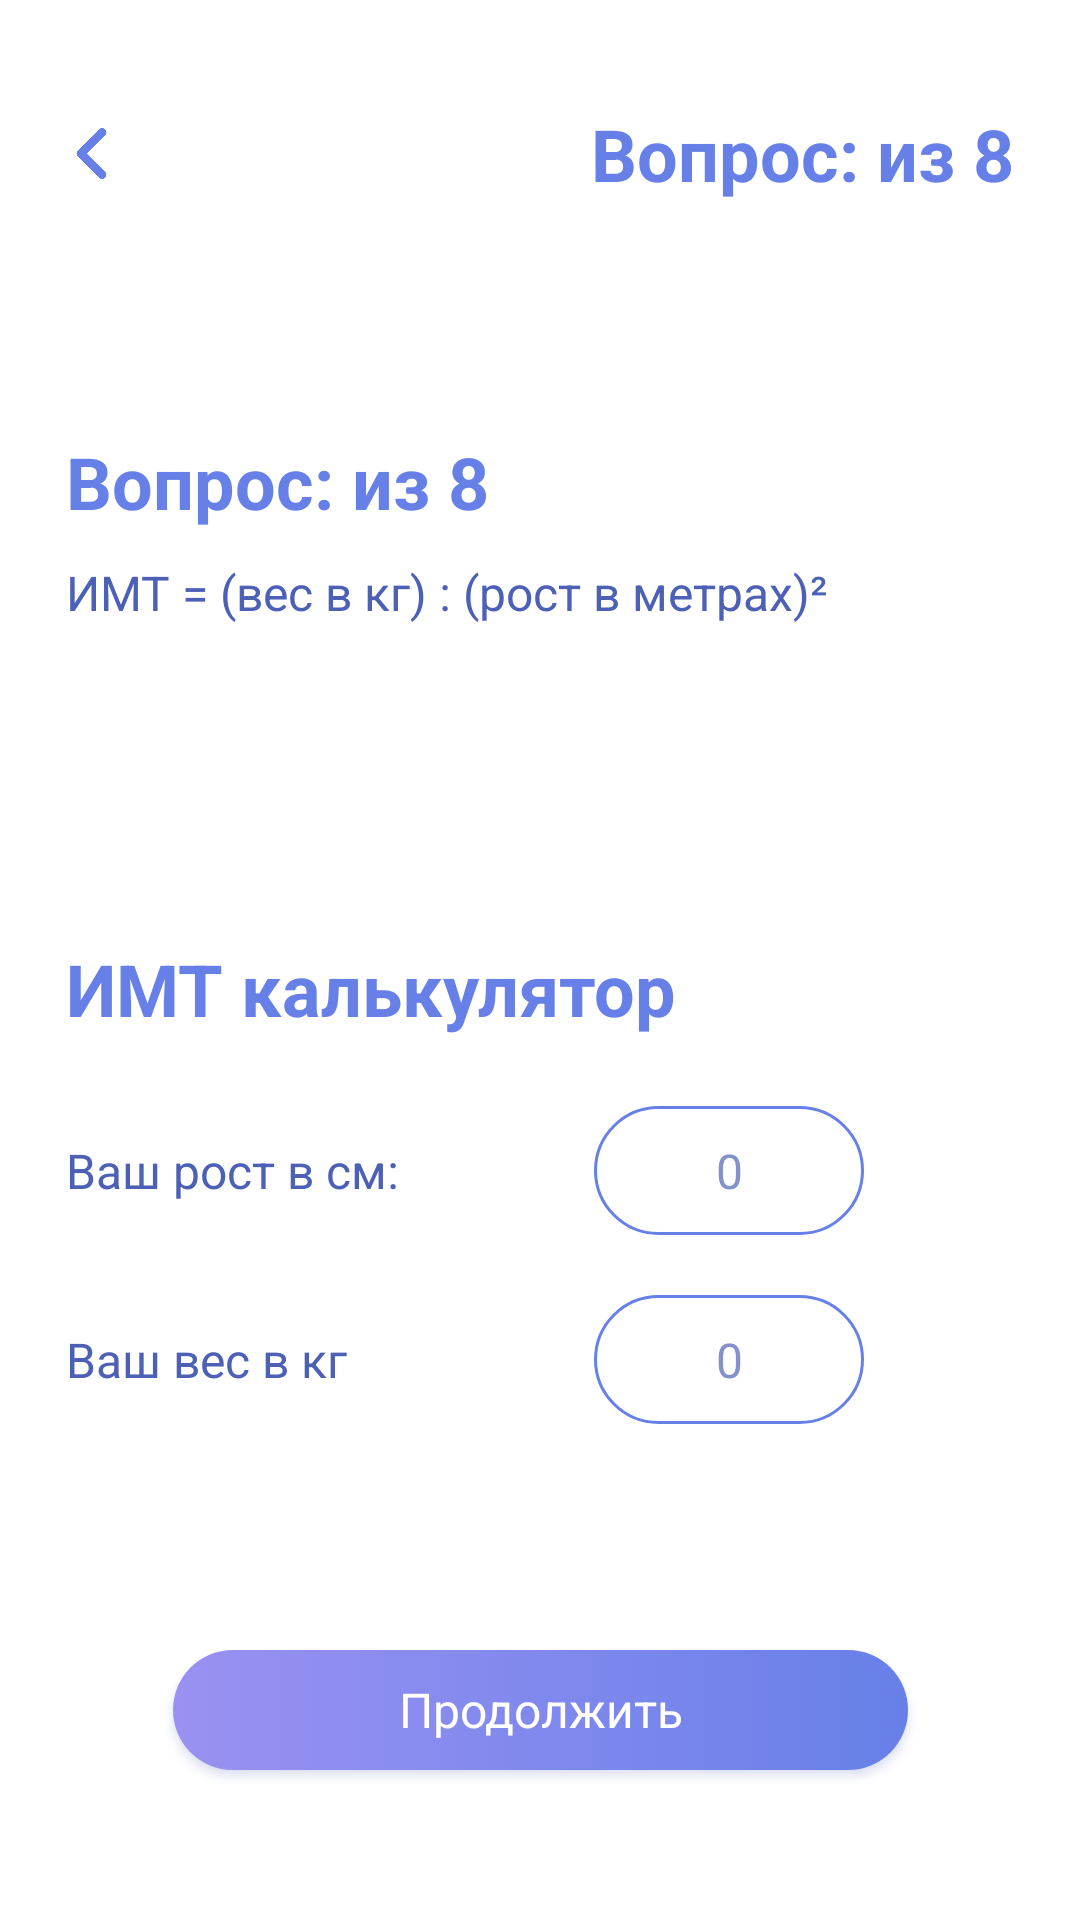

Point at icon controls on the screen. Image size 1080 × 1920, points as point (x, y).
back: point (91, 153)
